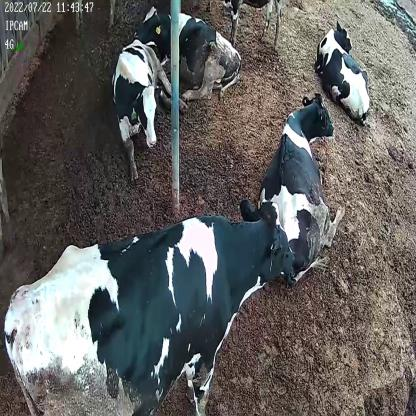cow: (5, 182, 295, 416), (256, 90, 346, 283), (110, 30, 187, 178), (130, 3, 242, 100), (314, 20, 372, 122)
